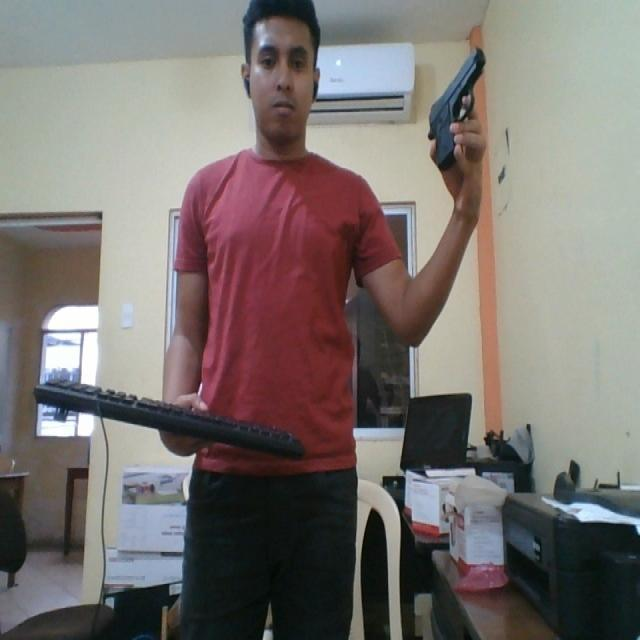weapon: (424, 45, 490, 169)
